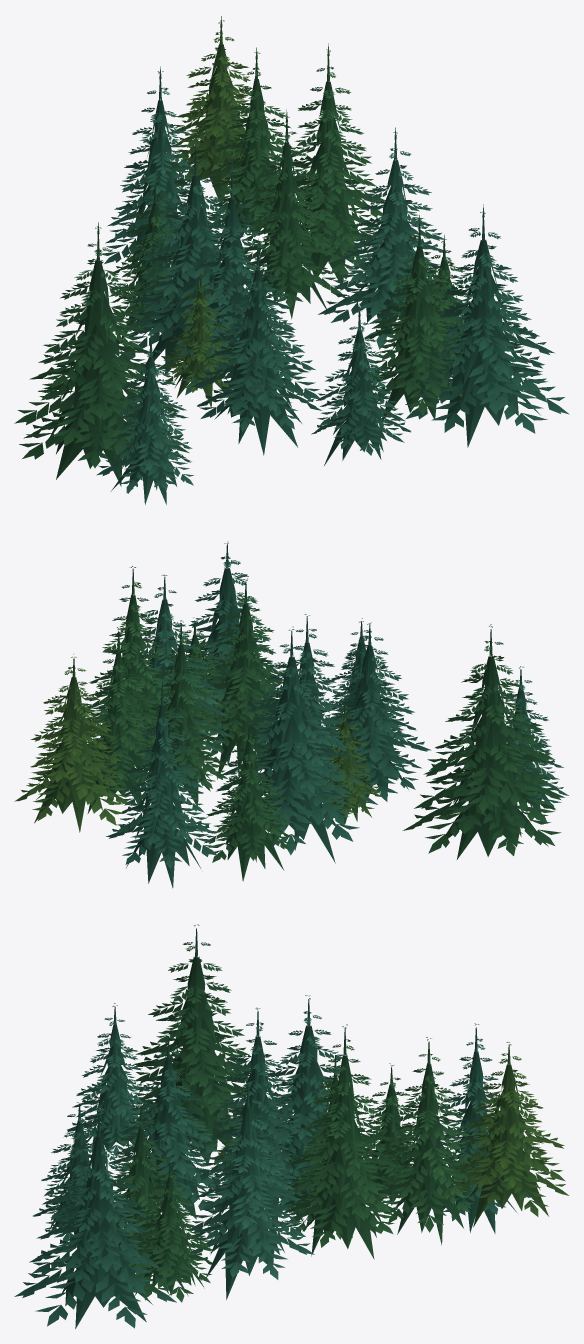
3 renders of one model, top to bottom at view 1: azimuth 30°, elevation 25°; view 2: azimuth 150°, elevation 25°; view 3: azimuth 270°, elevation 25°, orthographic. The views are drawn at different scales.
Parts seen in each view (by area): view 1: pn_5; view 2: pn_5; view 3: pn_5.
Part boxes in pixels (x1=…): pn_5: x1=14, y1=16, x2=569, y2=504; pn_5: x1=14, y1=541, x2=568, y2=888; pn_5: x1=14, y1=924, x2=569, y2=1328.
Size of the model in its own units: 32.48 by 19.36 by 34.2.
1 material, 1 textured.
